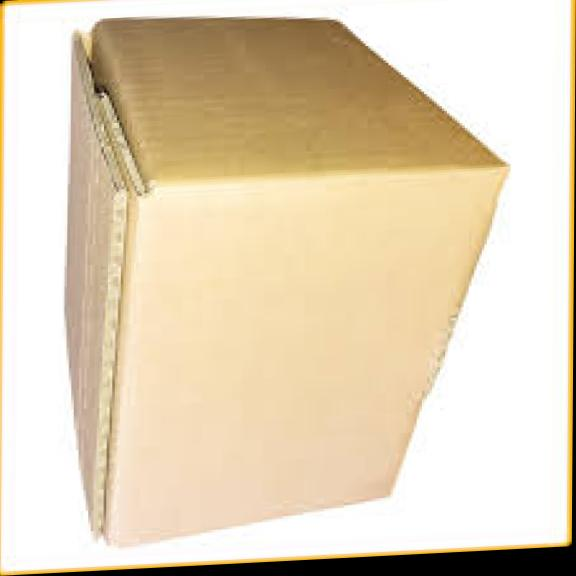Kertas: (67, 19, 503, 544)
